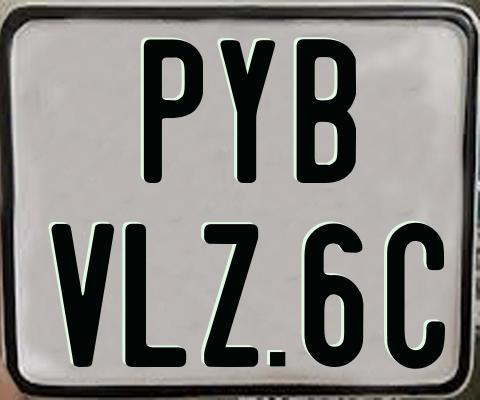6: (302, 221, 362, 371)
B: (294, 37, 355, 187)
C: (385, 221, 449, 367)
L: (123, 221, 189, 365)
P: (142, 38, 207, 182)
V: (49, 221, 118, 368)
Y: (219, 40, 275, 185)
Z: (202, 224, 256, 373)
